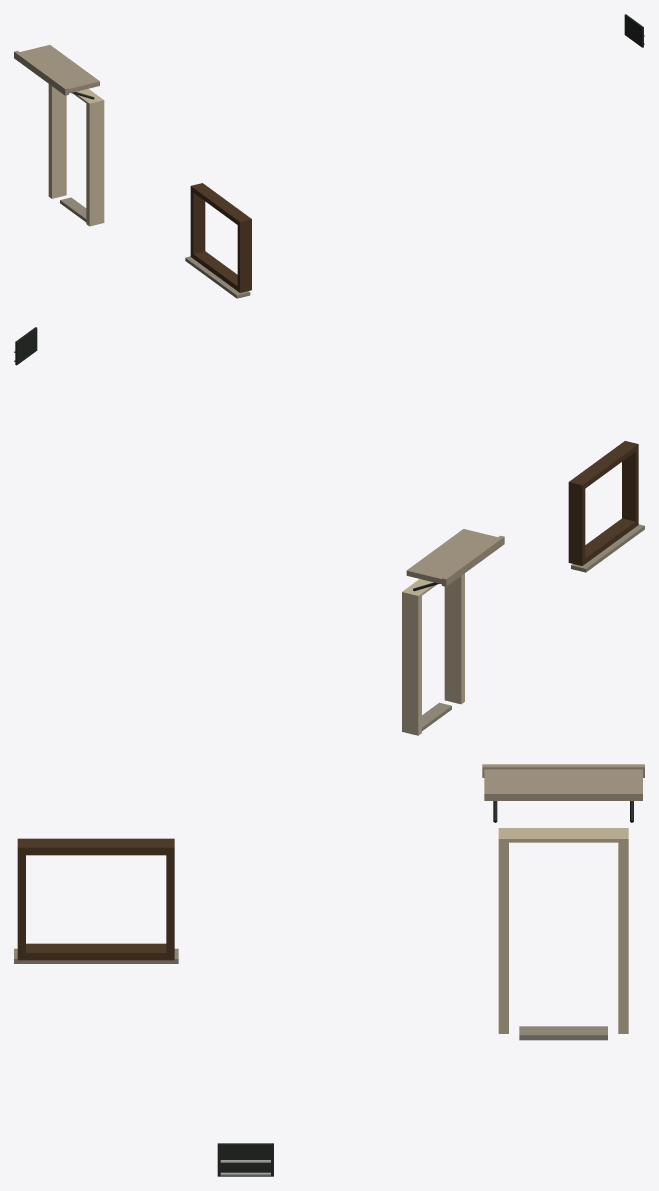
The model's file is SM_Homes_H03_Fixtures_LOD2.fbx.
The picture shows the model from 3 angles, top to bottom: view 1: azimuth 30°, elevation 25°; view 2: azimuth 150°, elevation 25°; view 3: azimuth 270°, elevation 25°; orthographic projection. The views are drawn at different scales.
Visible parts, largest first — view 1: SM_Homes_H03_Fixtures_LOD2; view 2: SM_Homes_H03_Fixtures_LOD2; view 3: SM_Homes_H03_Fixtures_LOD2.
Boxes of the visible parts, x1,y1,x2,y2 form: SM_Homes_H03_Fixtures_LOD2: (14,14,644,298); SM_Homes_H03_Fixtures_LOD2: (14,327,644,735); SM_Homes_H03_Fixtures_LOD2: (14,764,644,1176).
Bounding box in the file's own units: 9.75 × 6.75 × 2.88.
